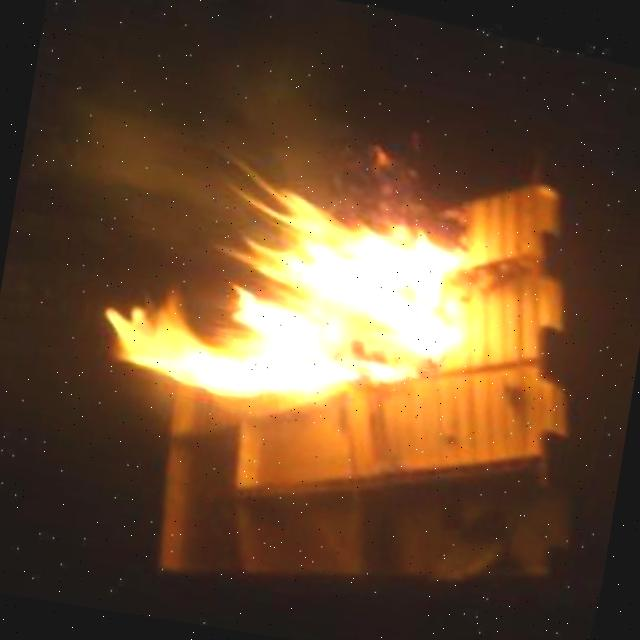fire: (90, 164, 470, 433)
